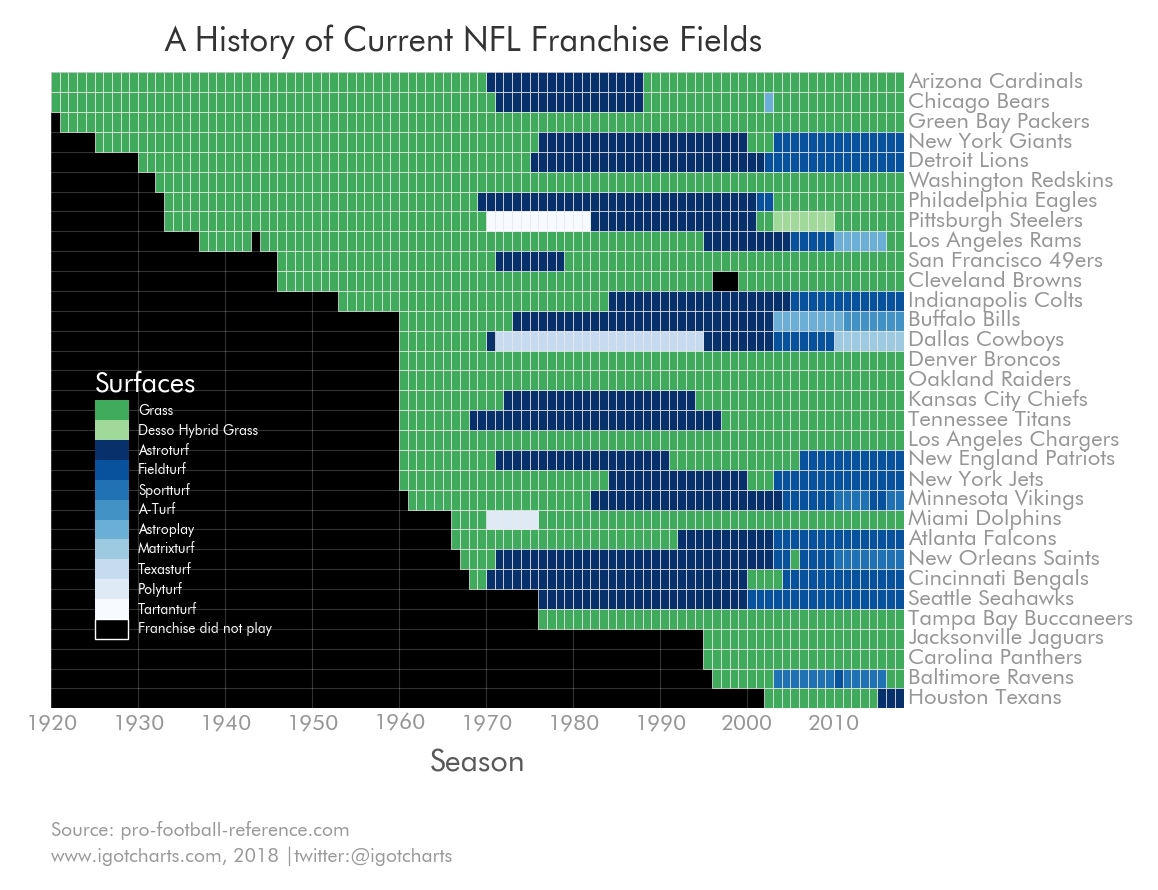

The page's visual inventory and layout, read from the dashboard file:
{"tool":"tableau","page":{"name":"Dashboard 1","canvas":[1000,700],"ordinal":0},"visuals":[{"type":"worksheet","title":"Sheet 1","mark":"Shape","rows":["Function"],"cols":["Chart Type"],"box":[7,10,934,584]},{"type":"worksheet","title":"column totals","mark":"Automatic","cols":["Chart Type"],"box":[166,608,777,31]}]}

Visuals, with their boxes on the page's 1000x700 design canvas (x1, y1, x2, y2). These are canvas units, not pixel positions in the 1158x890 screenshot, which may show the page scaled, cropped or inside an application window:
"Sheet 1" worksheet (Shape marks): crop(7, 10, 941, 594)
"column totals" worksheet: crop(166, 608, 943, 639)
